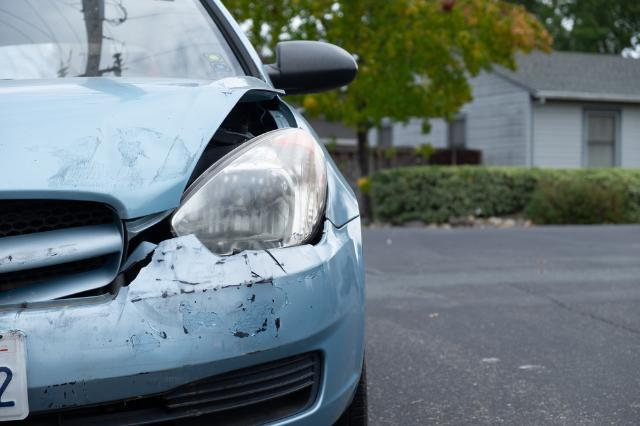crack: (264, 250, 288, 275)
scratch: (119, 236, 299, 356), (36, 119, 197, 191)
